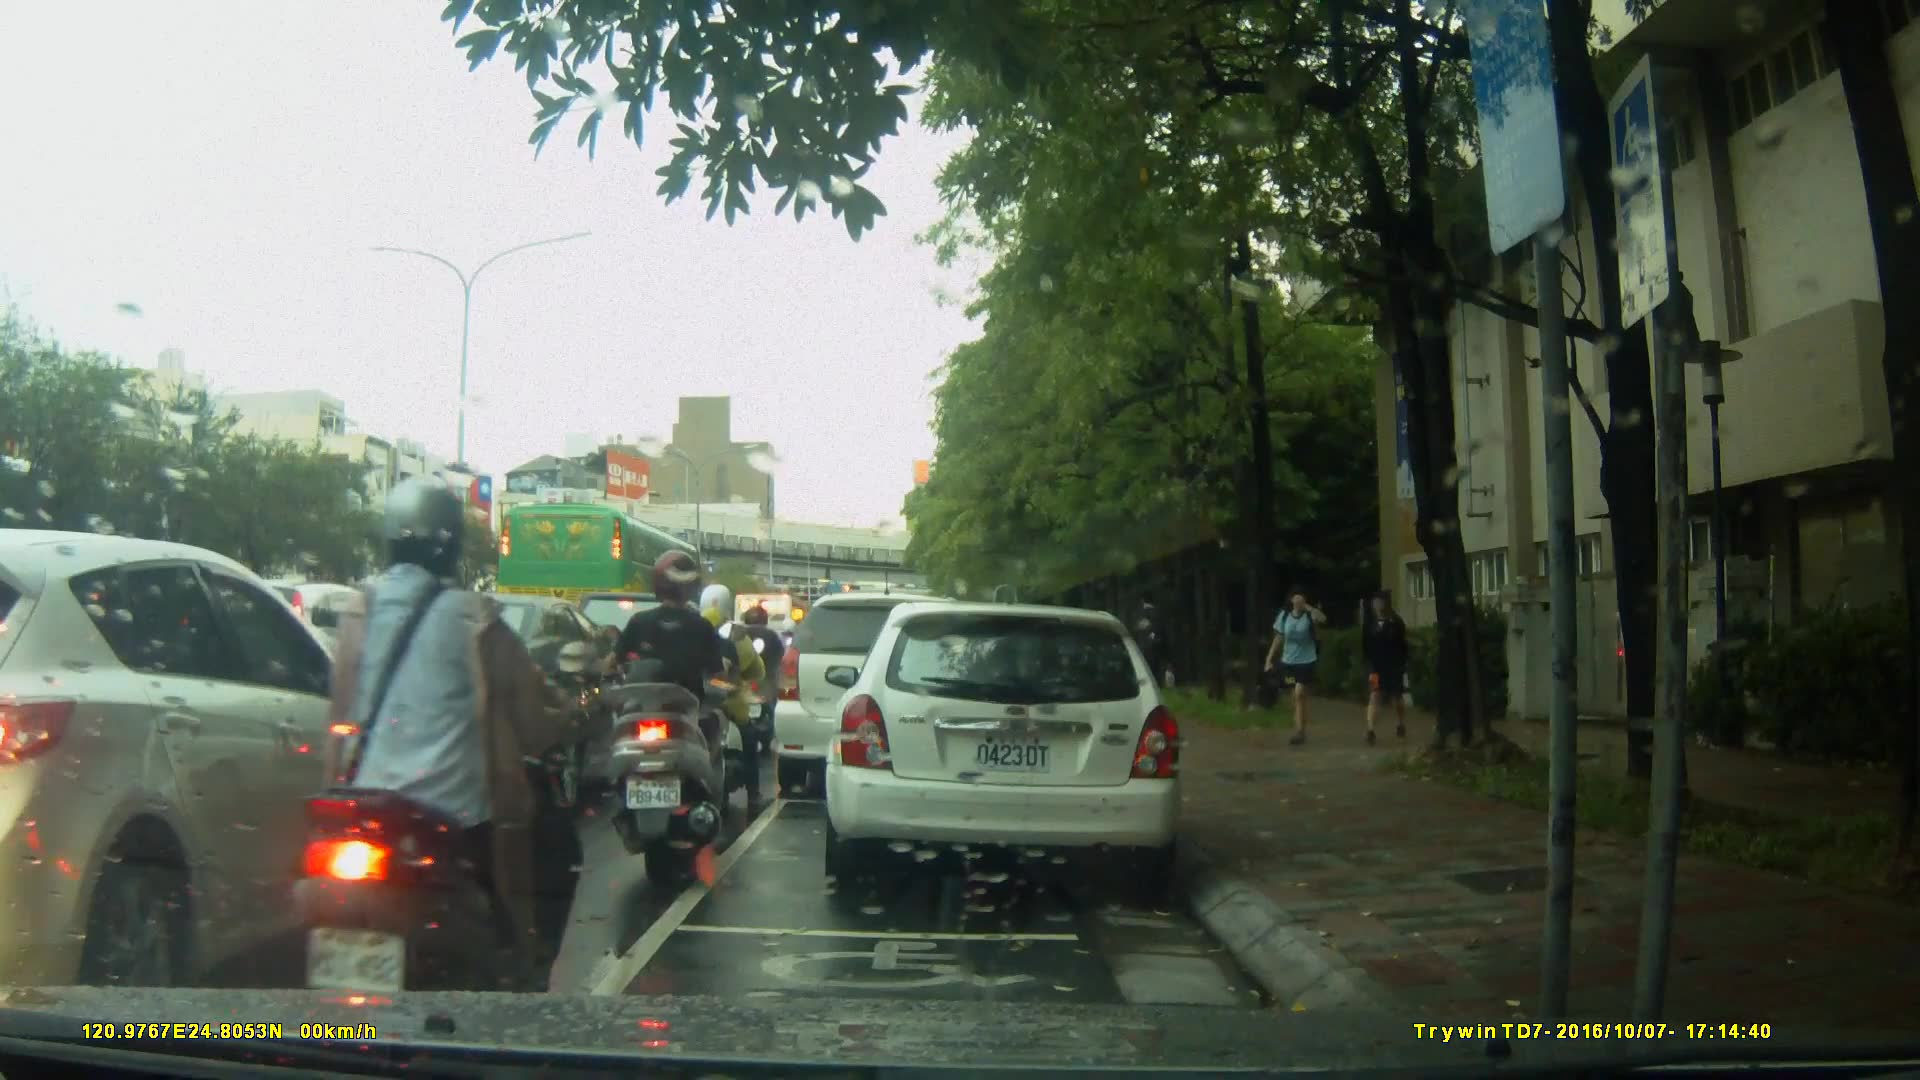pedestrian: (1251, 583, 1346, 751), (1357, 577, 1418, 754), (1126, 595, 1172, 739)
rider: (290, 474, 589, 1039), (609, 553, 734, 877), (685, 579, 771, 803), (725, 604, 794, 775)
vehicle: (1, 529, 445, 987), (831, 592, 1196, 897), (312, 590, 644, 807), (770, 592, 999, 801), (495, 501, 707, 638)
